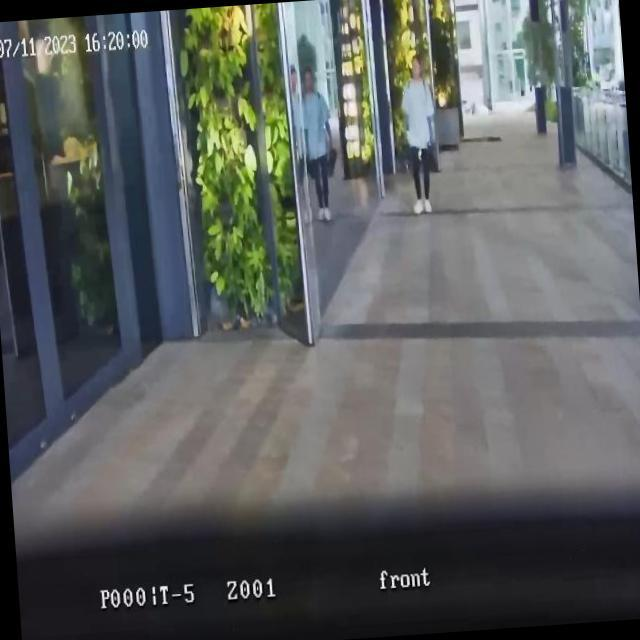person: (398, 54, 442, 215), (296, 64, 338, 223)
